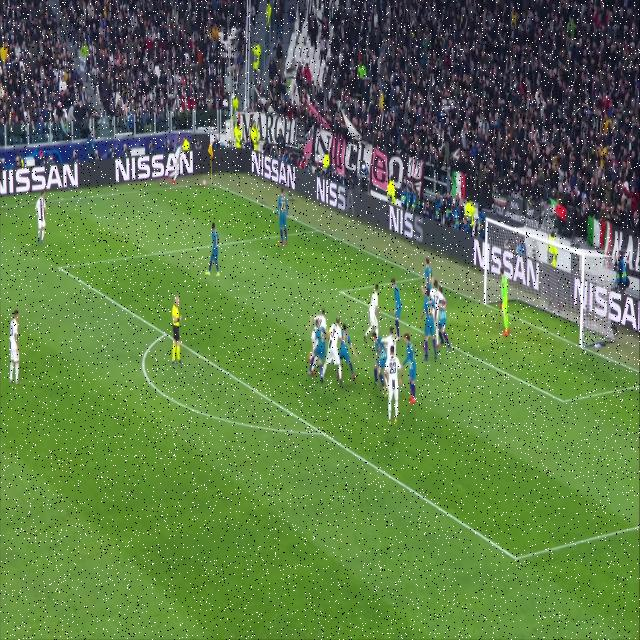Ball: (202, 173, 207, 190)
GoalKeeper: (496, 264, 511, 337)
TEAM 1: (364, 267, 380, 342), (328, 316, 343, 384), (387, 349, 398, 433), (10, 310, 22, 386), (36, 191, 50, 246), (430, 279, 441, 339), (170, 137, 184, 184), (309, 307, 327, 327)
TEAM 2: (398, 334, 418, 407), (344, 319, 360, 386), (438, 280, 452, 355), (420, 288, 434, 360), (207, 222, 223, 278), (371, 330, 384, 398), (312, 320, 324, 384), (391, 270, 402, 332), (276, 194, 288, 247), (421, 250, 432, 302)
